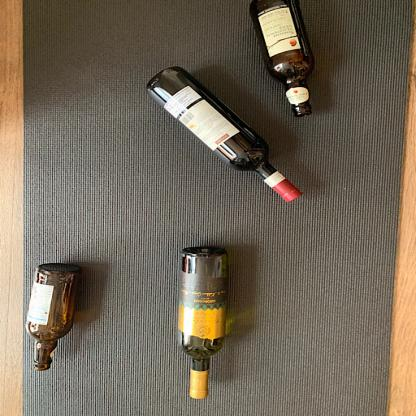trash: (144, 65, 303, 207), (174, 244, 230, 402), (254, 0, 321, 123), (22, 261, 80, 372)
